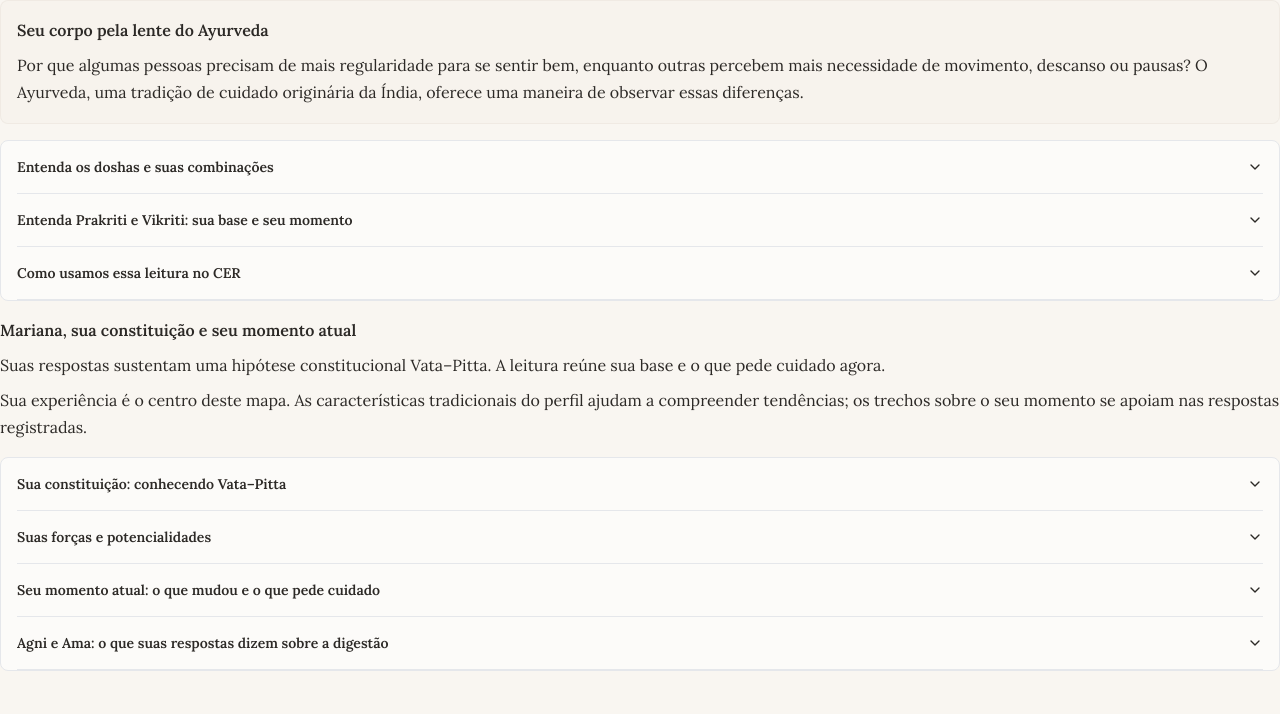
Scenario: Leitura pessoal ayurvédica › não atribui Vikriti ausente nem repete perguntas do questionário
Click the button "Seu momento atual: o que mudou e o que pede cuidado" at x=199, y=590, box [17,564,1263,616]
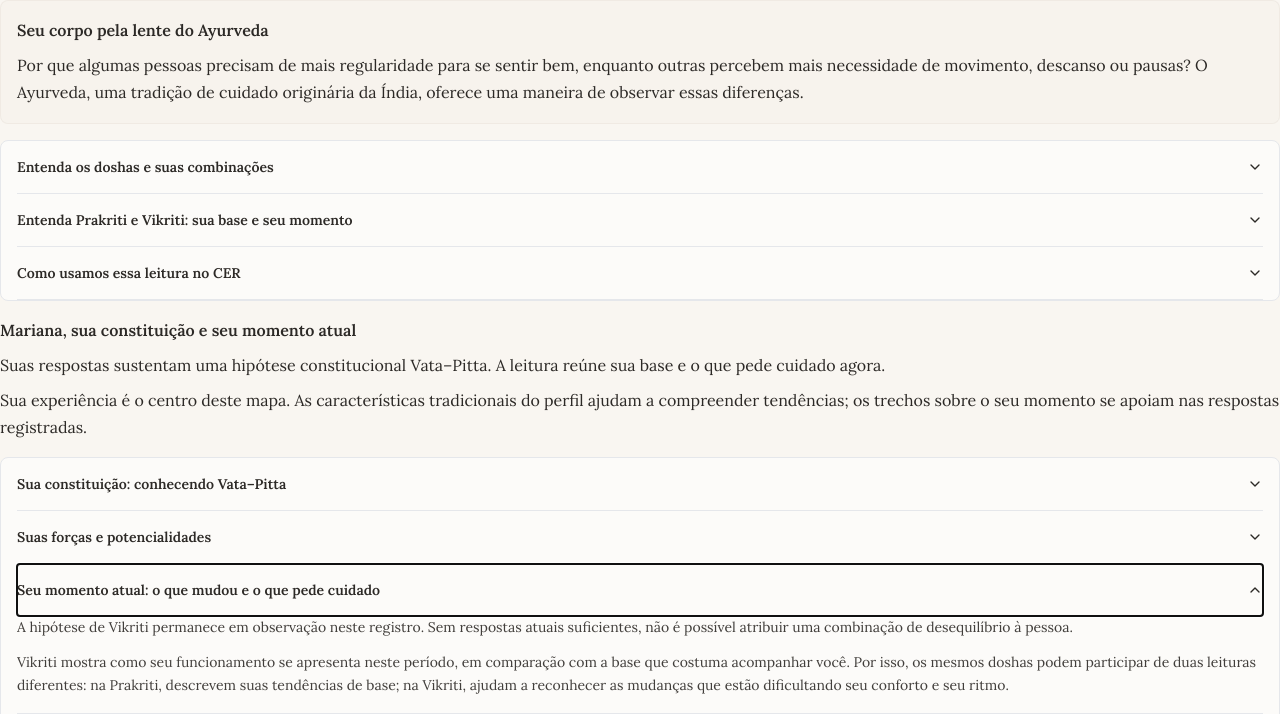
Expected: the button "Suas forças e potencialidades" is shown, [17,511,1263,563]
Result: the text "Sem respostas atuais suficientes" is shown at [17,618,1073,636]
Click the button "Sua constituição: conhecendo Vata–Pitta" at x=152, y=484, box [17,458,1263,510]
(page scrolled)
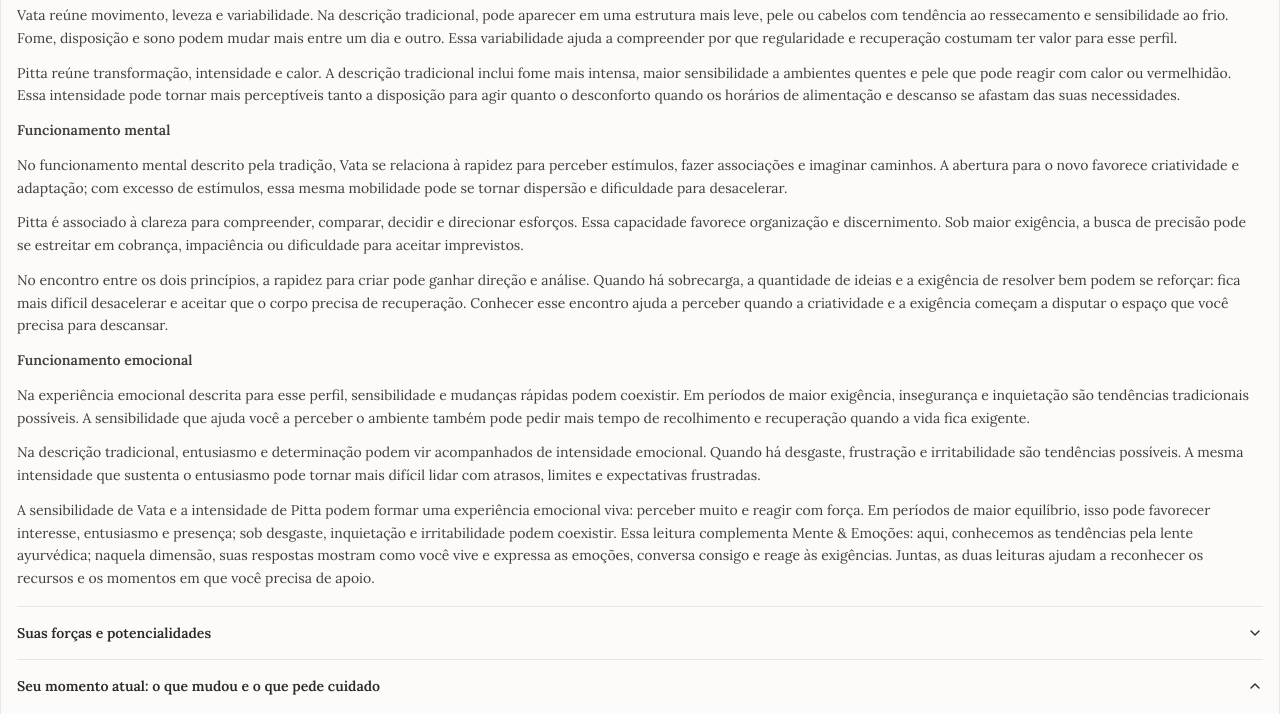
Result: the heading "Funcionamento mental" is shown at [17,121,170,139]
Result: the heading "Funcionamento emocional" is shown at [17,351,192,369]
